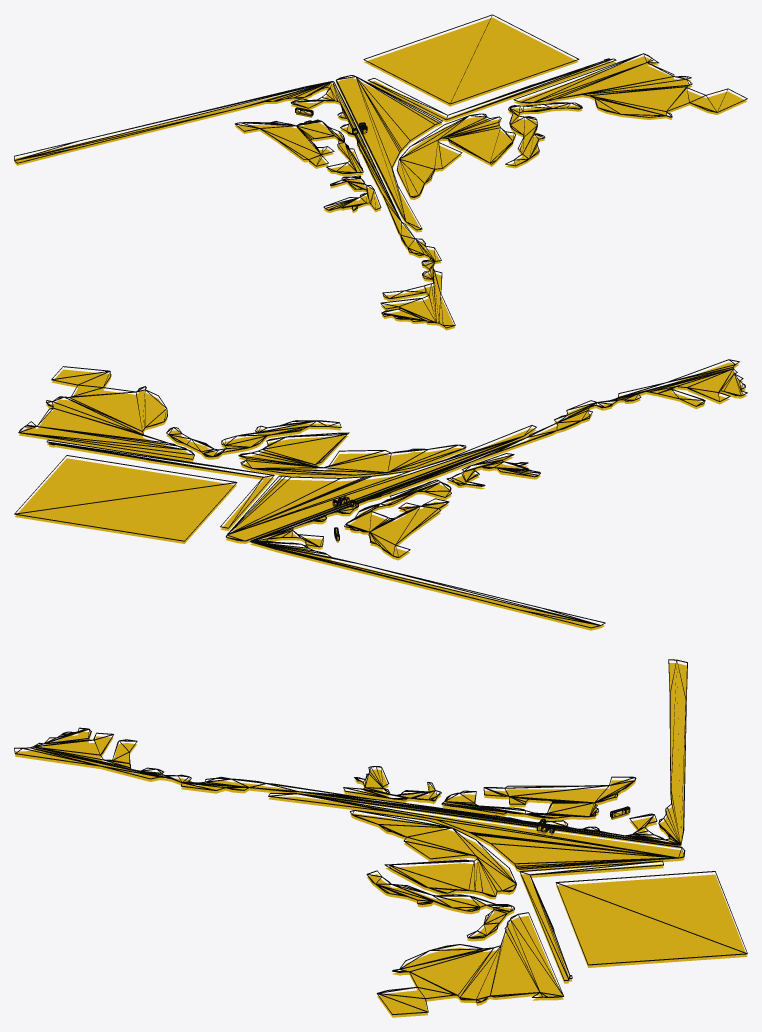
Rendered from sivasagar.glb.
The picture shows the model from 3 angles, top to bottom: view 1: azimuth 30°, elevation 25°; view 2: azimuth 150°, elevation 25°; view 3: azimuth 270°, elevation 25°; orthographic projection. The views are drawn at different scales.
Parts seen in each view (by area): view 1: 1056386713.001; view 2: 1056386713.001; view 3: 1056386713.001.
Part boxes in pixels (box(x1,y1,x2,y2)): 1056386713.001: box(14, 14, 747, 330); 1056386713.001: box(14, 359, 747, 630); 1056386713.001: box(14, 659, 747, 1017).
Size of the model in its own units: 0.6644 by 0.00682 by 0.5801.
